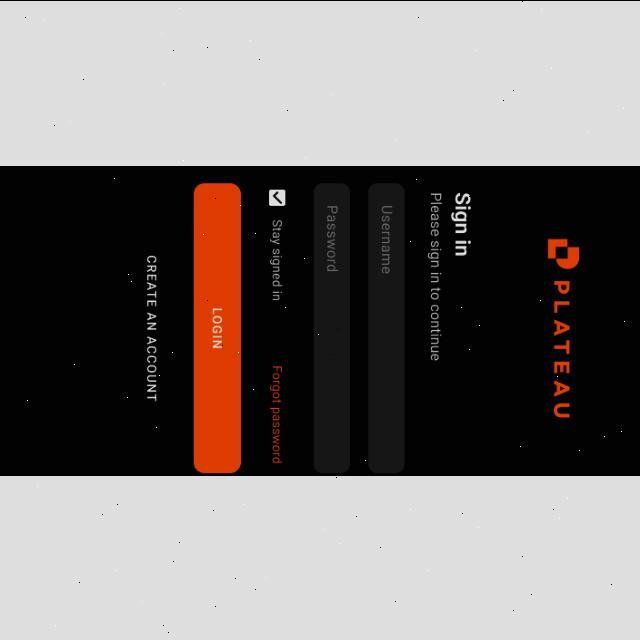QLabel: (140, 254, 162, 402), (427, 190, 445, 362), (265, 363, 285, 465), (266, 216, 284, 302), (451, 192, 473, 256), (210, 304, 224, 350)
VBtn: (193, 183, 241, 473)
VCheckbox: (268, 188, 286, 206)
VImg: (540, 232, 584, 423)
VTextField: (367, 182, 405, 474), (314, 182, 351, 474)
